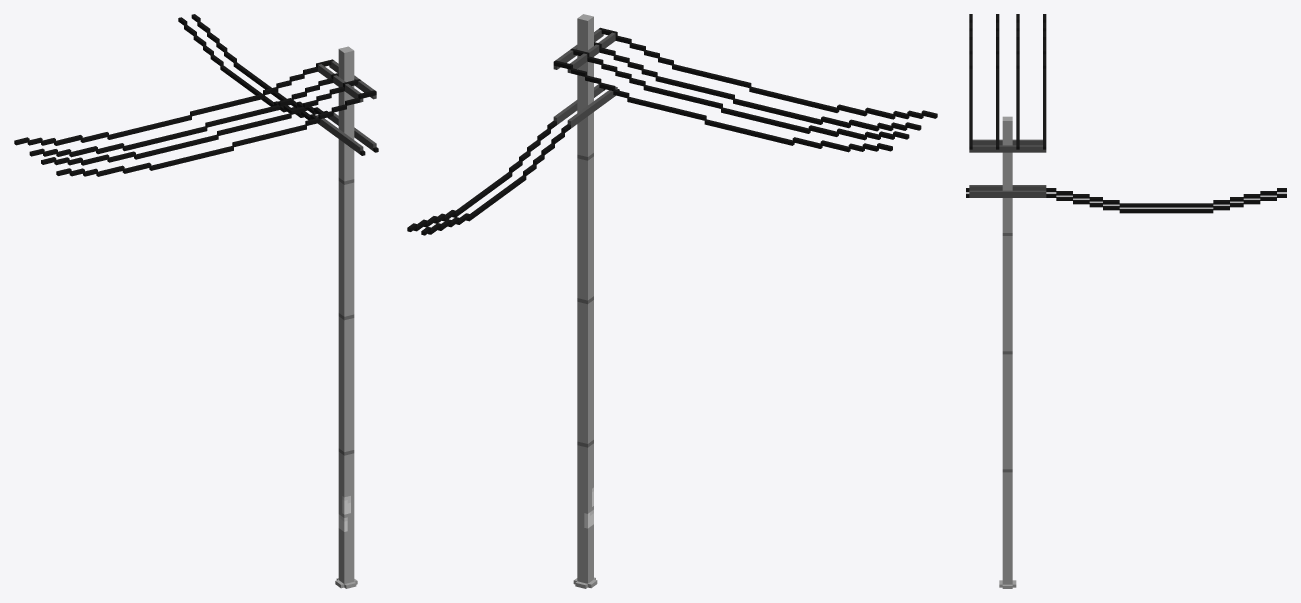
Rendered from poleSeven.glb.
3 renders of one model, left to right at view 1: azimuth 30°, elevation 25°; view 2: azimuth 150°, elevation 25°; view 3: azimuth 270°, elevation 25°, orthographic. The views are drawn at different scales.
Parts seen in each view (by area): view 1: ObjObject; view 2: ObjObject; view 3: ObjObject.
Part boxes in pixels (x1=…): ObjObject: x1=14, y1=14, x2=378, y2=588; ObjObject: x1=407, y1=14, x2=937, y2=588; ObjObject: x1=966, y1=14, x2=1286, y2=588.
Size of the model in its own units: 9.6 by 15.4 by 9.6.
Materials: 1 (1 with a texture image).
